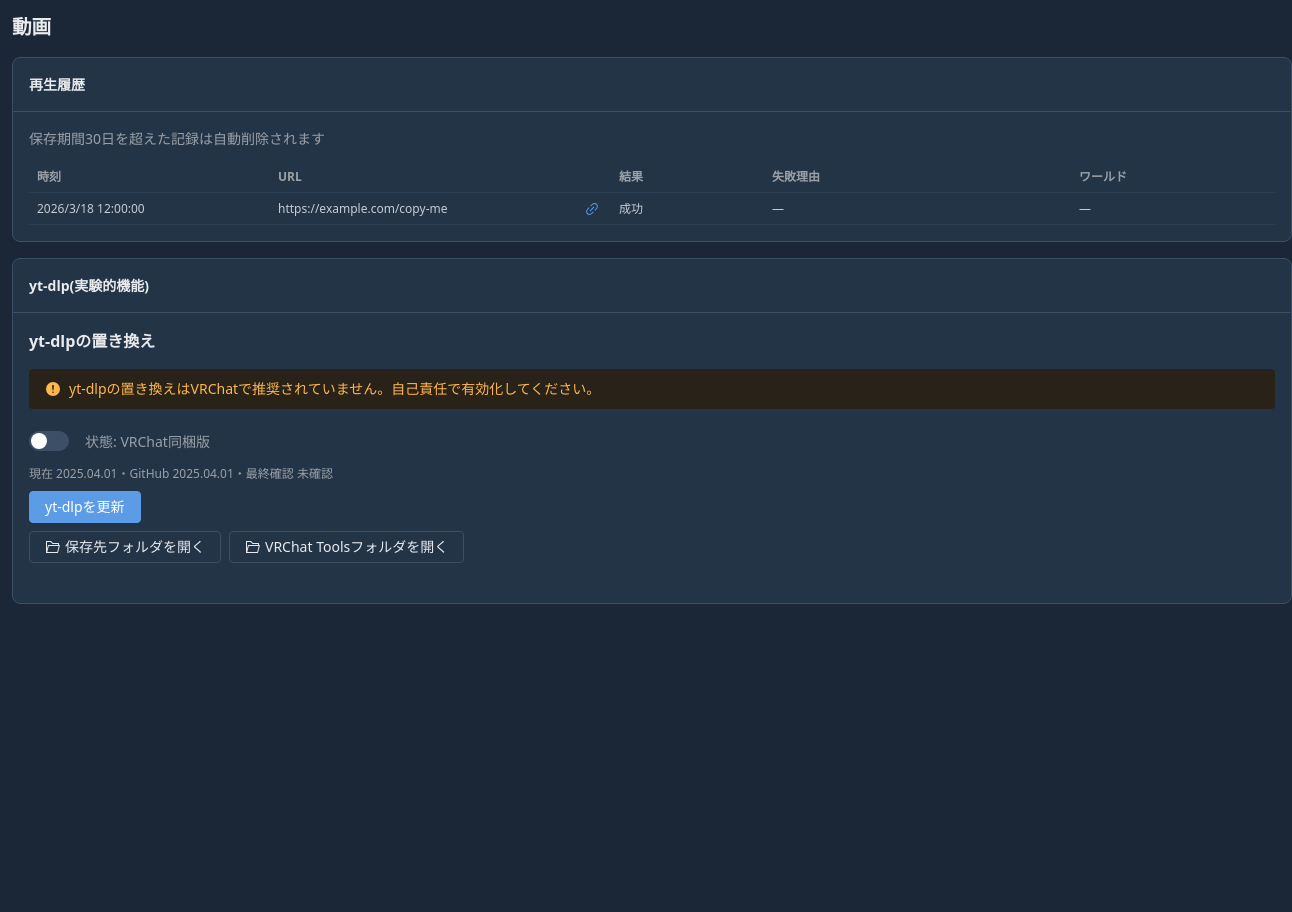
Test: VideoView › copies attempt URL from history row
This screenshot has width=1292, height=912.
Click the button with test id "video-history-copy-url".
click(592, 209)  # box [581,198,603,220]
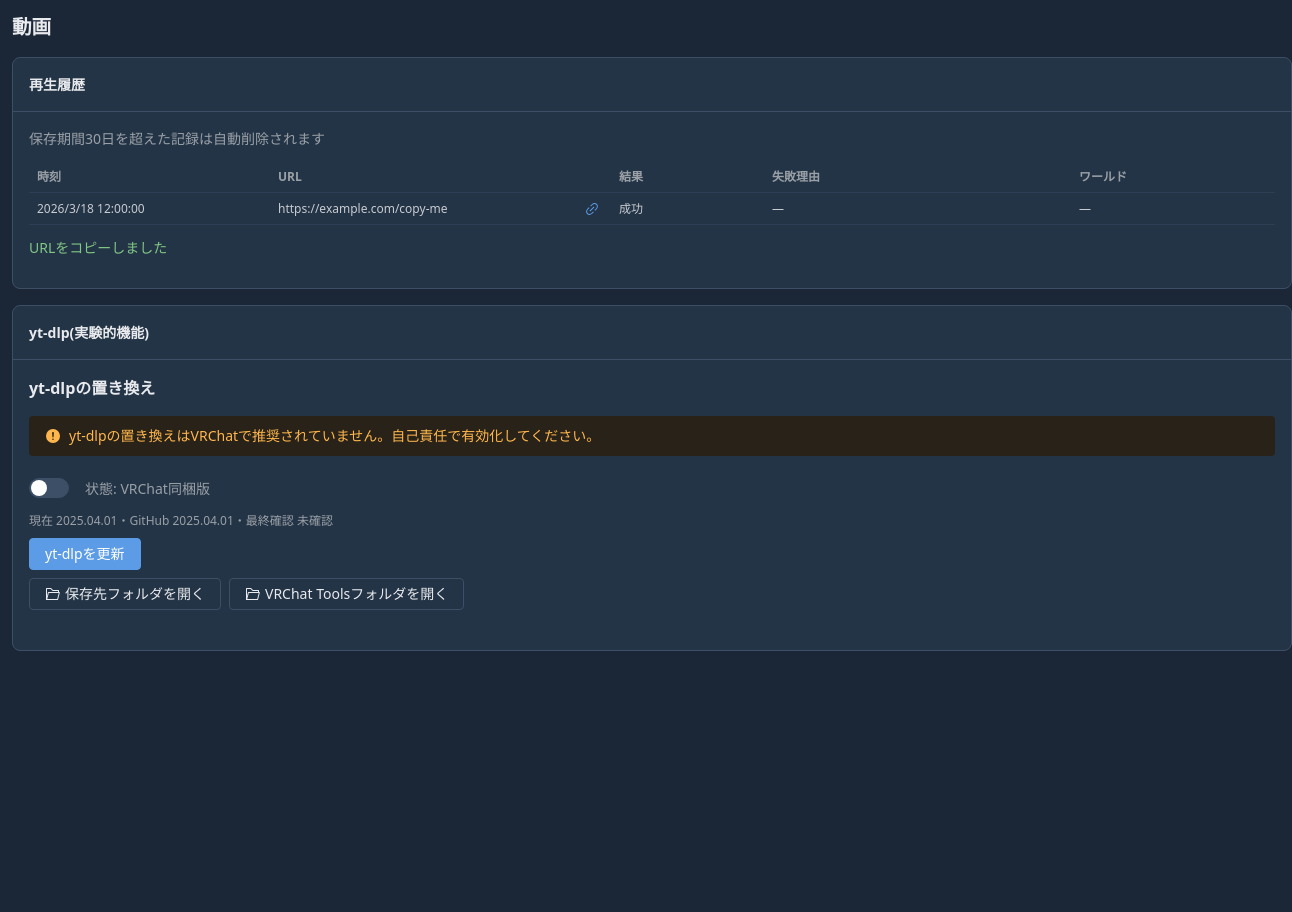
Expected: the text with test id "video-history-copy-ok" reads "URLをコピーしました", [29,238,167,257]
